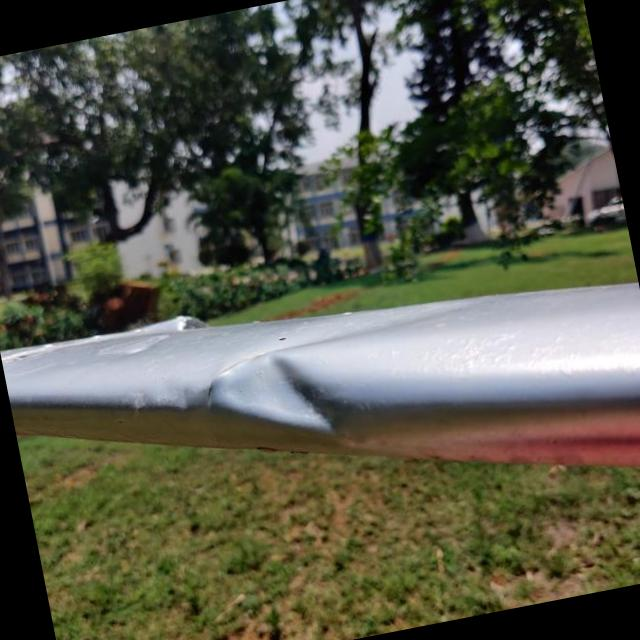Crack: (203, 381, 215, 409)
Dent: (209, 342, 345, 453)
